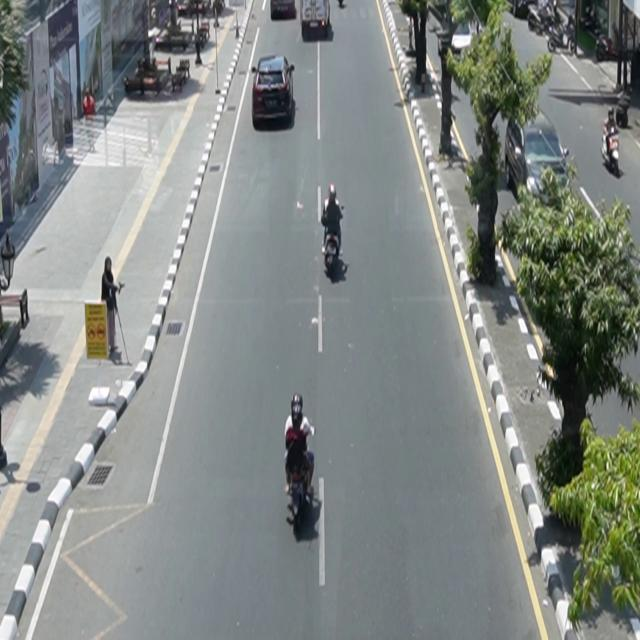car: (505, 108, 571, 207), (252, 55, 296, 129), (301, 1, 331, 41)
